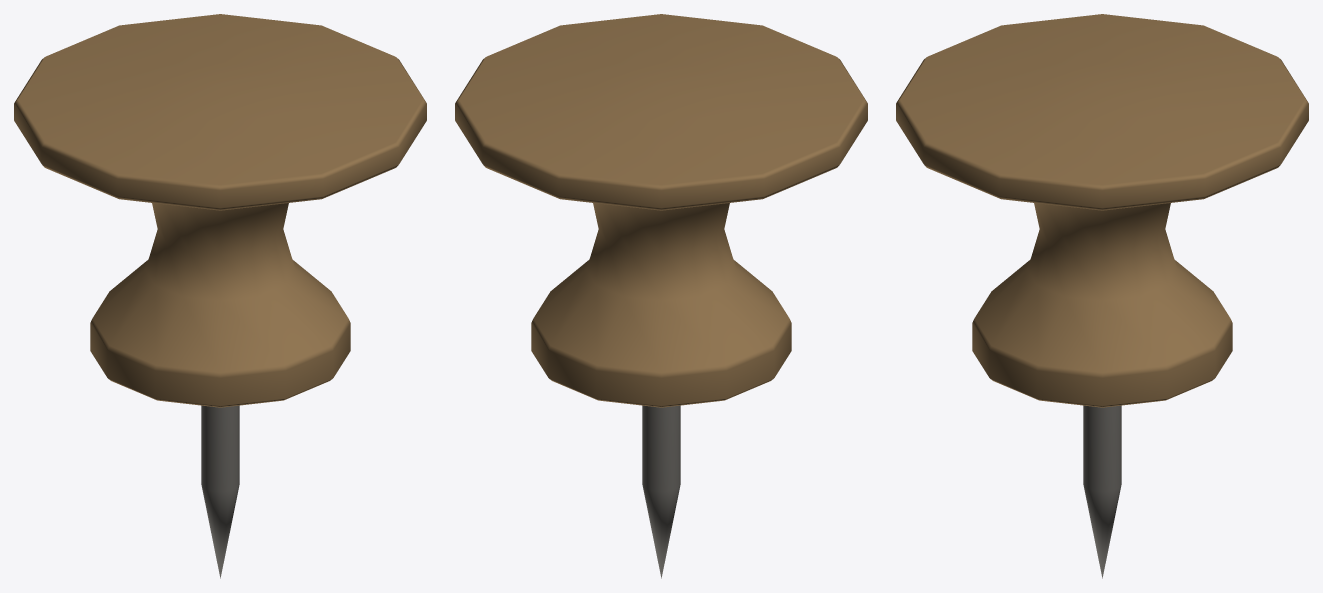
Rendered from Thumbtack_Orange.fbx.
3 views of the same model, side by side, from view 1: azimuth 30°, elevation 25°; view 2: azimuth 150°, elevation 25°; view 3: azimuth 270°, elevation 25° (orthographic).
Parts seen in each view (by area): view 1: Thumbtack_Orange; view 2: Thumbtack_Orange; view 3: Thumbtack_Orange.
Boxes of the visible parts, box(x1,y1,x2,y2) form: Thumbtack_Orange: box(14, 14, 426, 578); Thumbtack_Orange: box(455, 14, 867, 578); Thumbtack_Orange: box(896, 14, 1308, 578).
Bounding box in the file's own units: 9.2 × 12.13 × 9.2.
